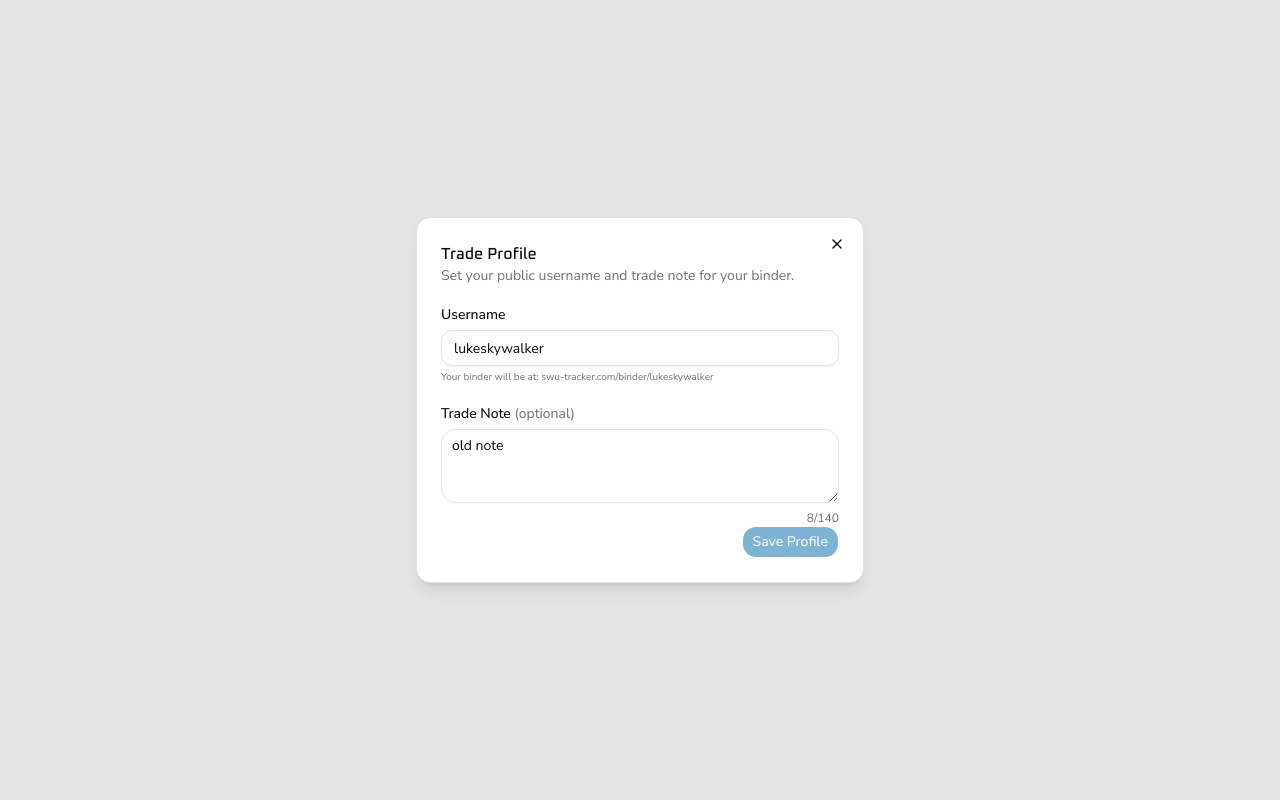
Test: when updateUser resolves with an error, the modal stays open and shows the inline error copy
Replace the text in the text box showing "old note" with "new note": (640,466) x1=441 y1=429 x2=839 y2=503
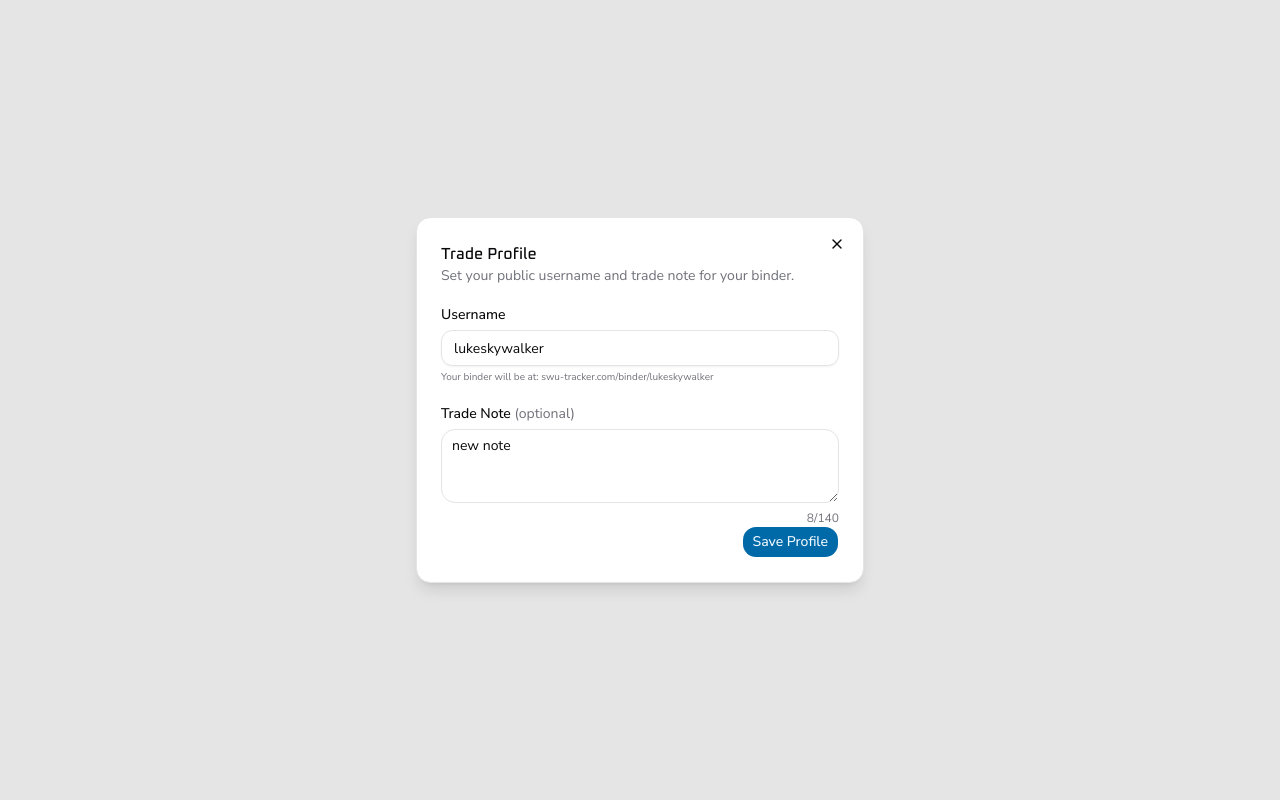
Click the button "Save Profile": (790,542) x1=742 y1=526 x2=839 y2=558
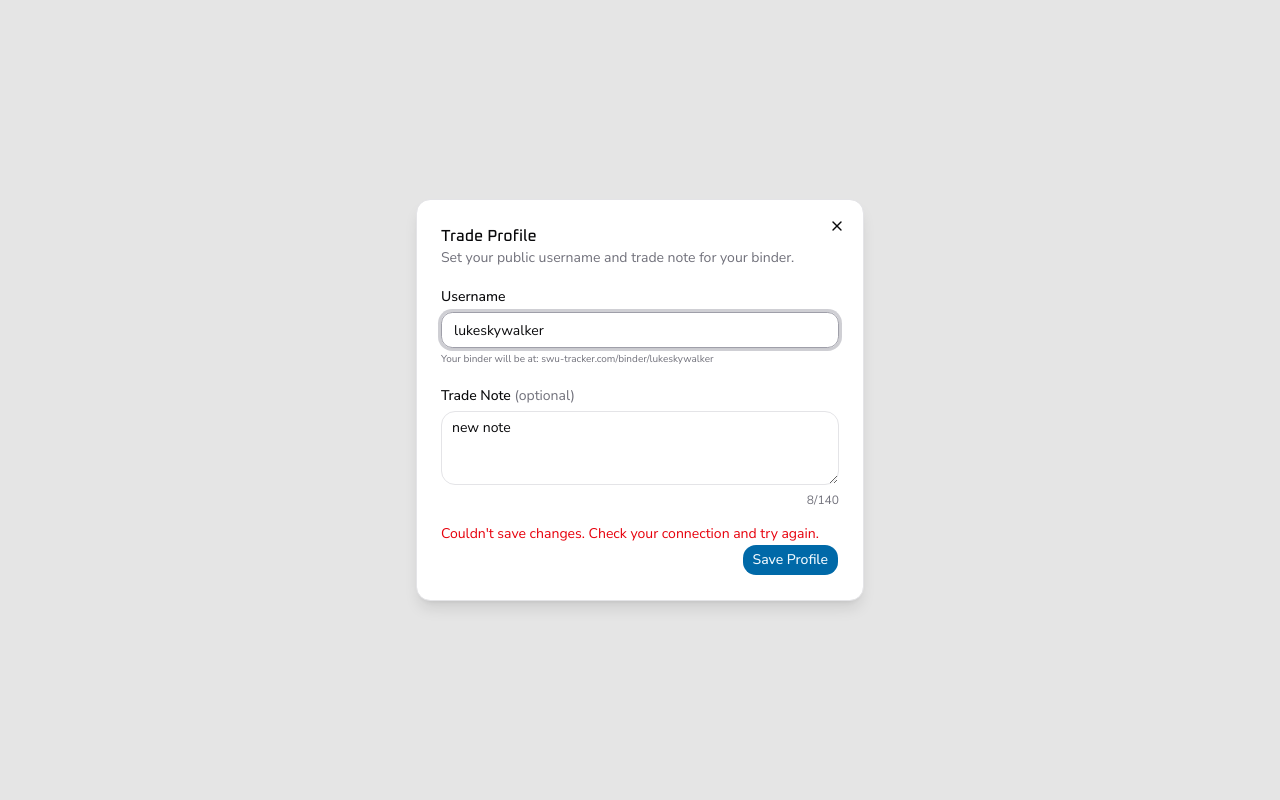
expect the text "Couldn't save changes. Check your connection and try again." is shown: met, box x1=441 y1=524 x2=839 y2=544
